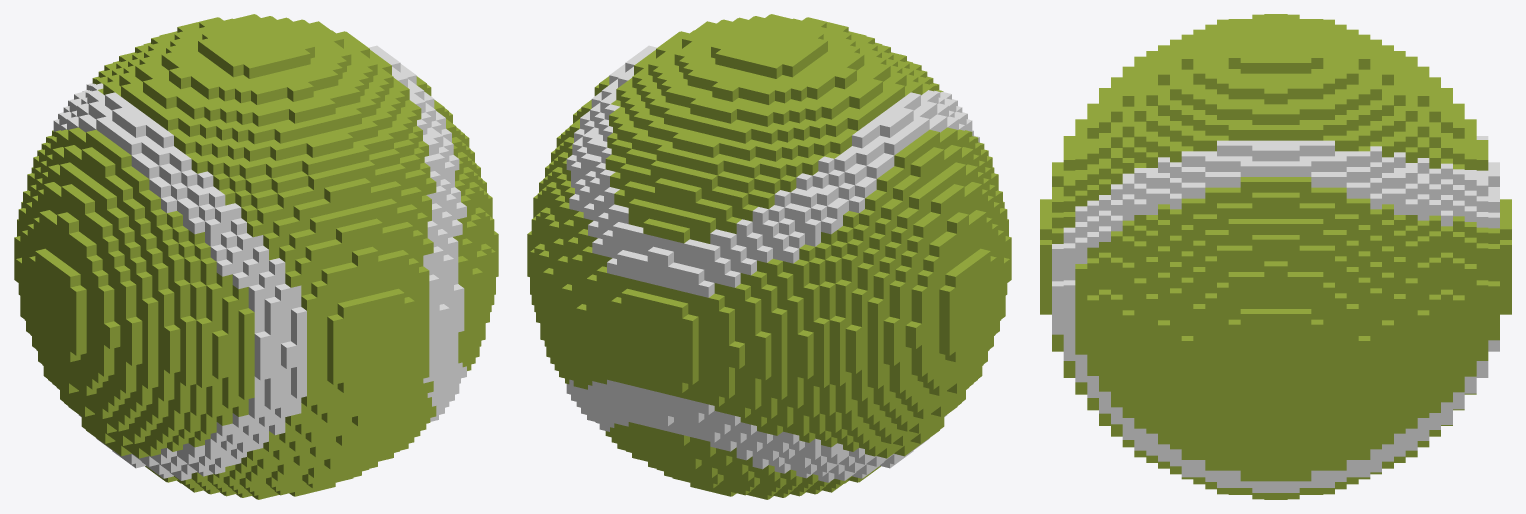
The model's file is TennisBall.obj.
3 views of the same model, side by side, from view 1: azimuth 30°, elevation 25°; view 2: azimuth 150°, elevation 25°; view 3: azimuth 270°, elevation 25° (orthographic).
Size of the model in its own units: 4 by 4 by 4.
1 material, 1 textured.
